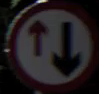Two way: (12, 14, 81, 70)
